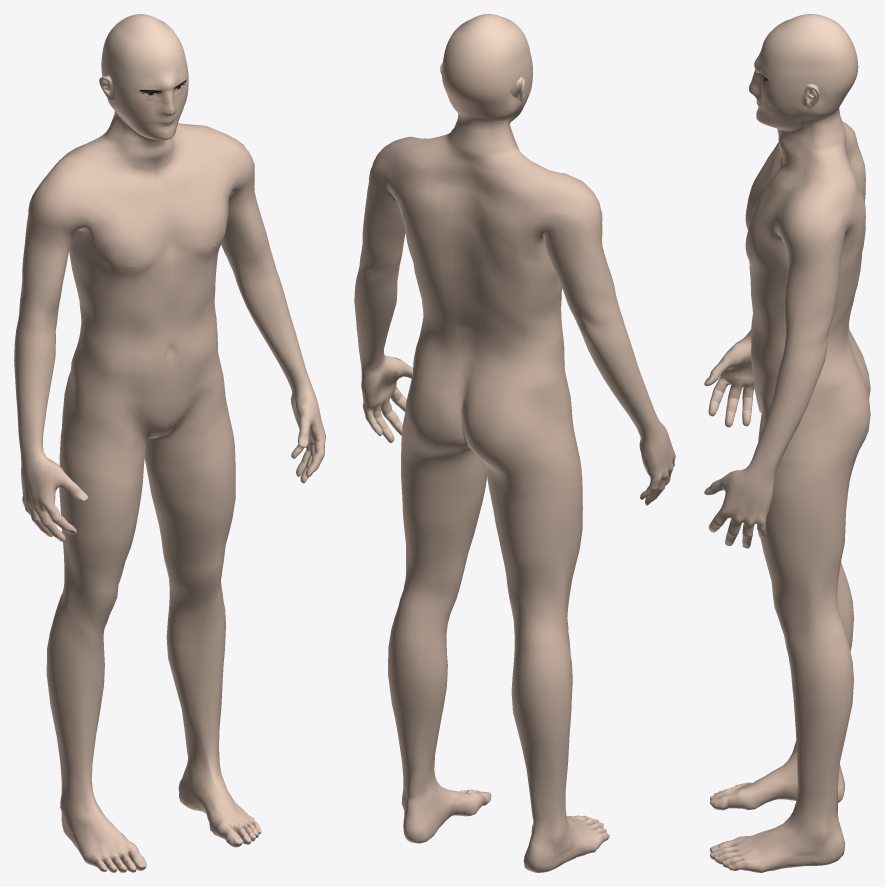
Rendered from male_static_rebuild.glb.
3 views of the same model, side by side, from view 1: azimuth 30°, elevation 25°; view 2: azimuth 150°, elevation 25°; view 3: azimuth 270°, elevation 25° (orthographic). The views are drawn at different scales.
Parts seen in each view (by area): view 1: New body and retained nape, head_1; view 2: New body and retained nape, head_1; view 3: New body and retained nape, head_1, ear-makehuman-right.
Part boxes in pixels (<box>): New body and retained nape: <box>14,111,325,872</box>; head_1: <box>101,14,188,140</box>; New body and retained nape: <box>354,113,675,872</box>; head_1: <box>442,14,532,124</box>; New body and retained nape: <box>704,107,870,872</box>; head_1: <box>749,14,858,131</box>; ear-makehuman-right: <box>800,84,821,108</box>.
Size of the model in its own units: 0.6751 by 1.79 by 0.3289.
Materials: 4 (1 with a texture image).
